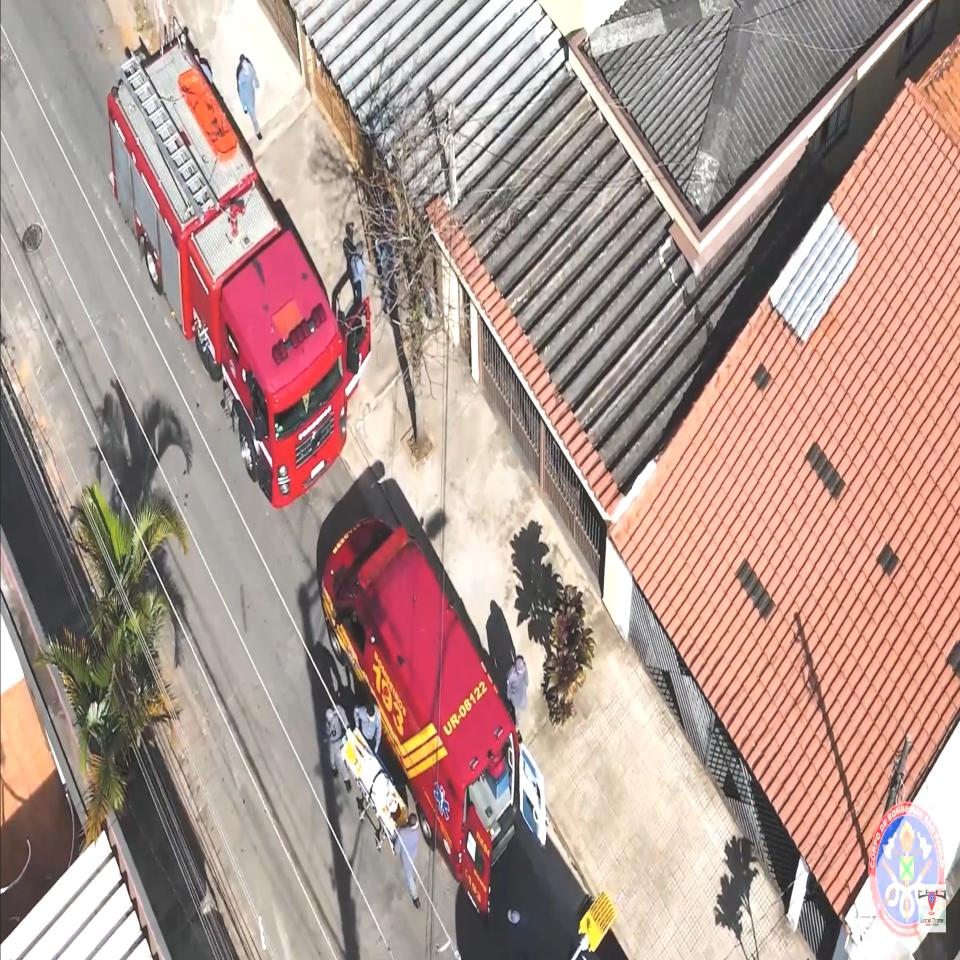bombeiro: (168, 120, 352, 515)
